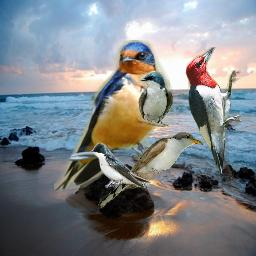Cuckoo: (96, 131, 205, 209)
Swallow: (54, 40, 170, 192), (90, 142, 151, 189), (138, 72, 173, 127)
Woodpecker: (185, 47, 241, 181)
